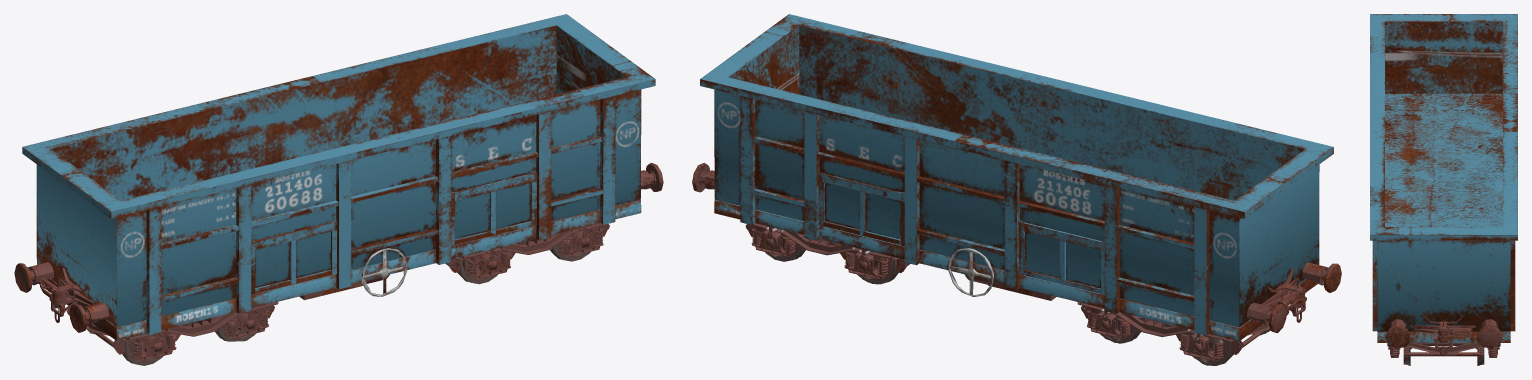
File: boxn_wagon.glb
3 renders of one model, left to right at view 1: azimuth 30°, elevation 25°; view 2: azimuth 150°, elevation 25°; view 3: azimuth 270°, elevation 25°, orthographic. The views are drawn at different scales.
Parts seen in each view (by area): view 1: pCylinder1_Boxn_0; view 2: pCylinder1_Boxn_0; view 3: pCylinder1_Boxn_0.
Part boxes in pixels (left/top/right/bottom): pCylinder1_Boxn_0: left=14, top=14, right=663, bottom=365; pCylinder1_Boxn_0: left=692, top=14, right=1341, bottom=365; pCylinder1_Boxn_0: left=1370, top=14, right=1517, bottom=365.
Size of the model in its own units: 0.5911 by 0.1793 by 0.157.
1 material, 1 textured.
